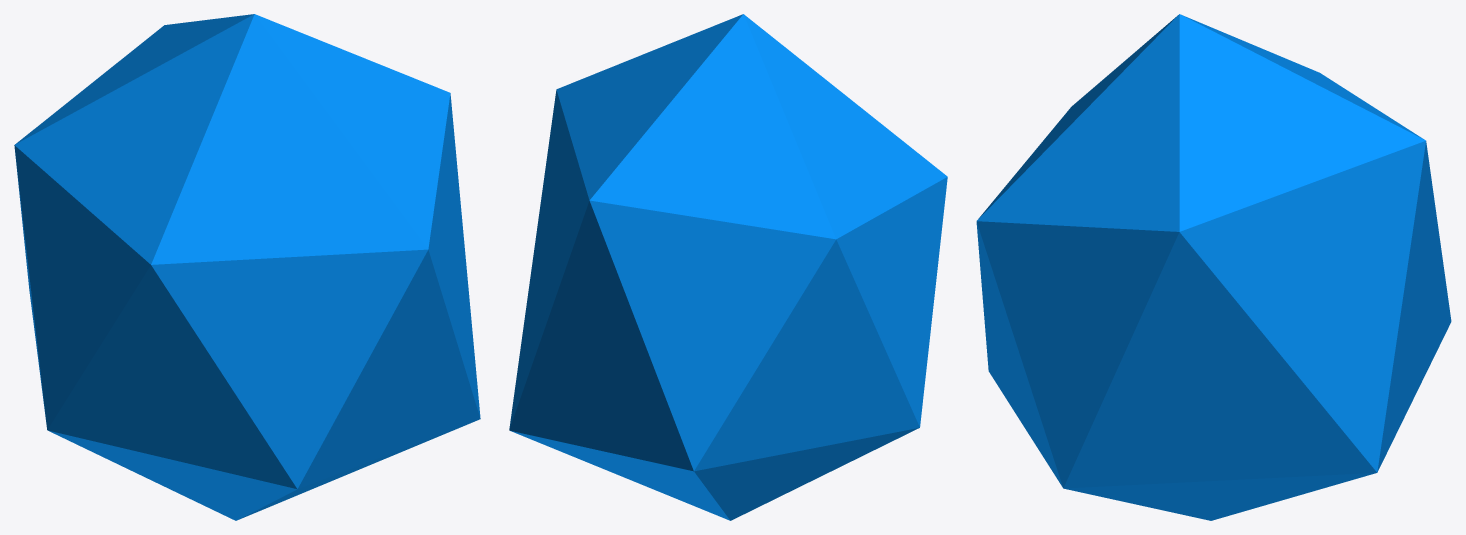
Rendered from Blue Rock.fbx.
3 renders of one model, left to right at view 1: azimuth 30°, elevation 25°; view 2: azimuth 150°, elevation 25°; view 3: azimuth 270°, elevation 25°, orthographic. The views are drawn at different scales.
Visible parts, largest first — view 1: Icosphere; view 2: Icosphere; view 3: Icosphere.
Boxes of the visible parts, x1,y1,x2,y2 form: Icosphere: [14, 14, 480, 520]; Icosphere: [509, 14, 947, 520]; Icosphere: [976, 14, 1451, 520].
Size of the model in its own units: 110 by 139 by 117.
